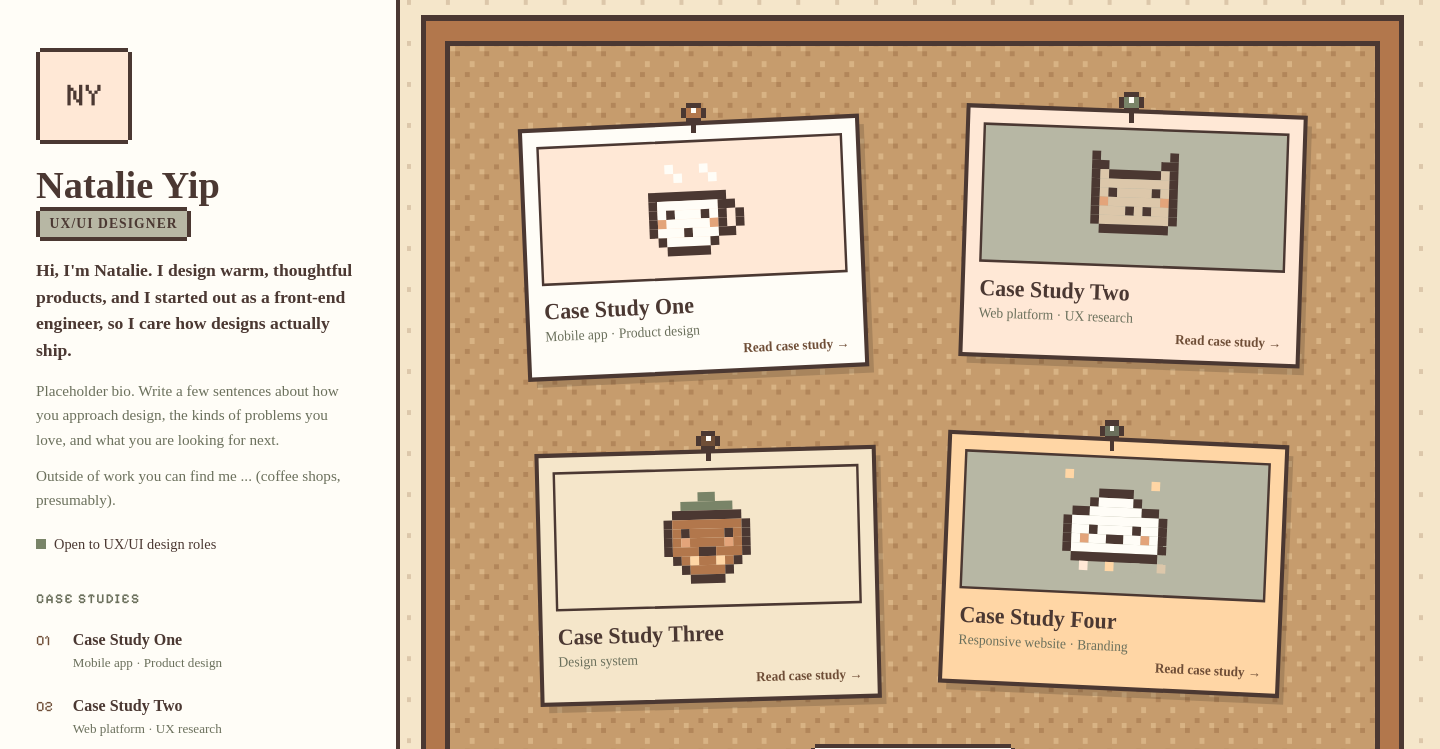
case study links on the home page resolve › the sidebar links open their pages too
Click the button "01 Case Study One Mobile app · Product design": [127, 639] box [24, 617, 348, 683]
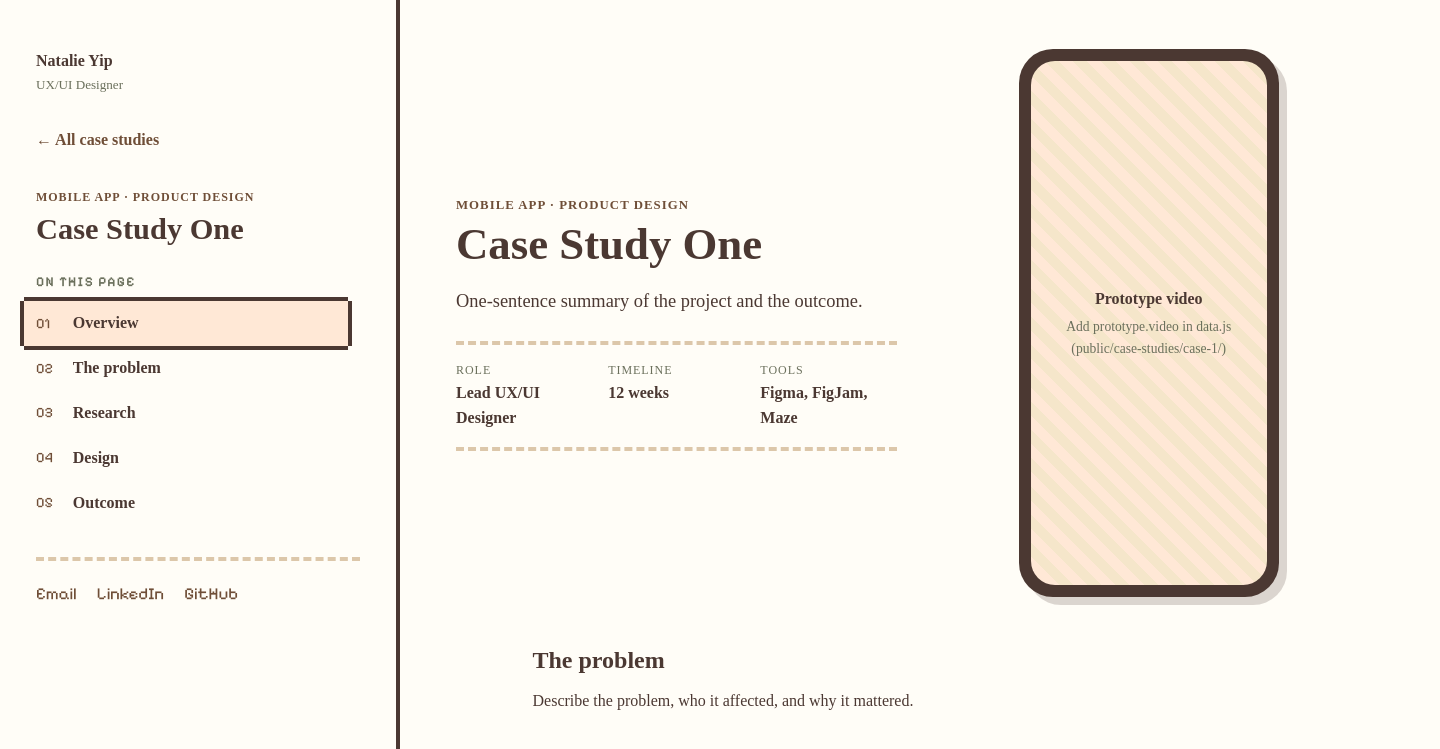
Check: the heading "Case Study One" is shown, box [456, 218, 762, 268]
